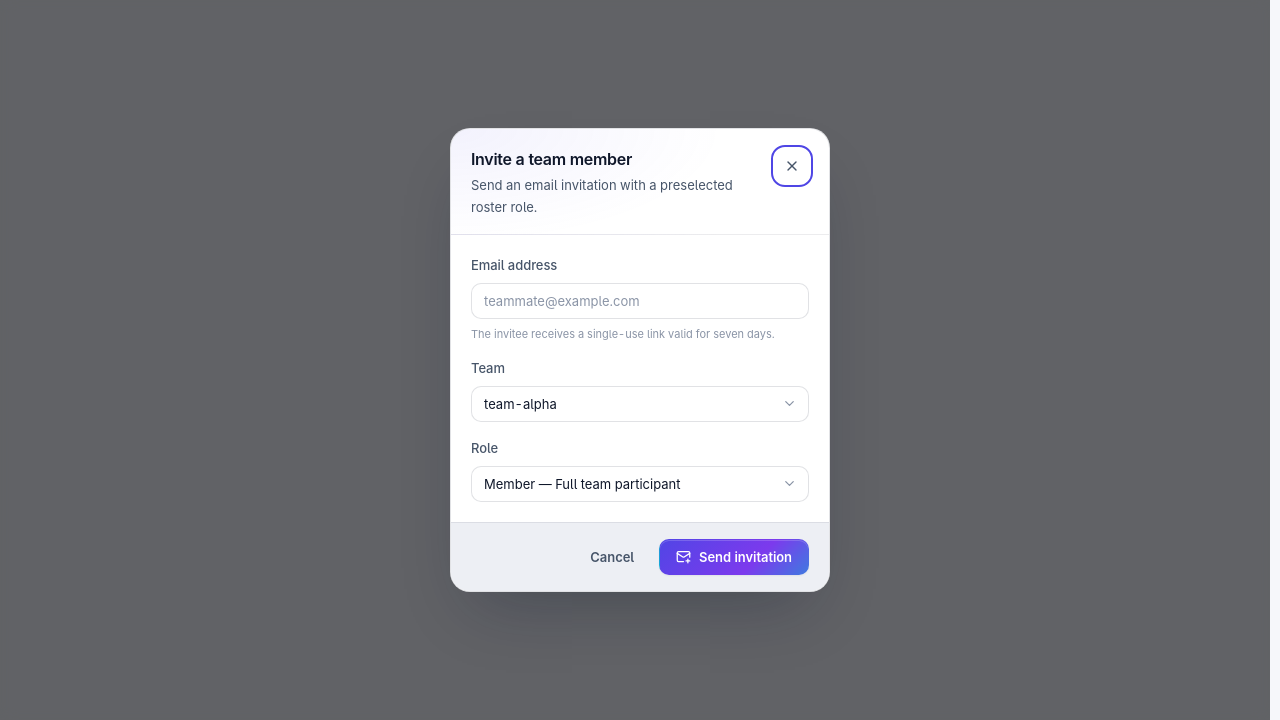
InviteDialog › rejects an invalid email without inviting
Type "not-an-email" into the field labelled "Email address" at (640,301), box [471,283,809,319]
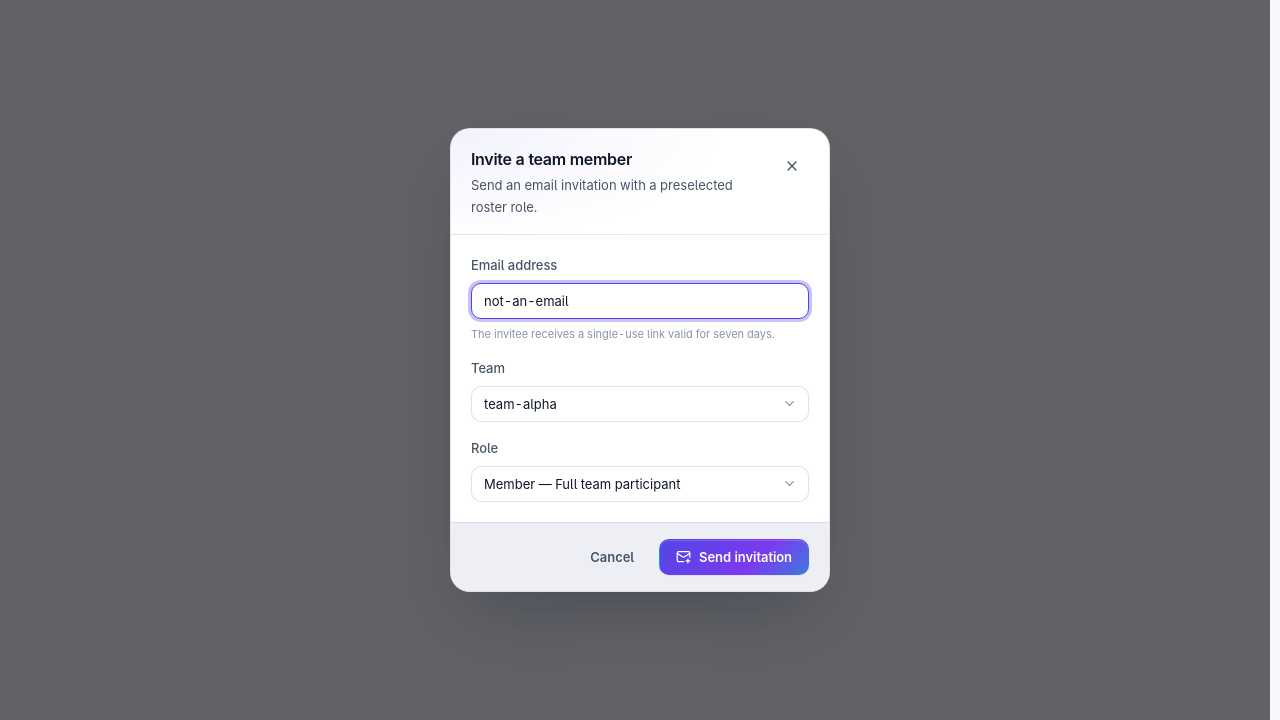
Click the button "Send invitation" at (734,557), box [659,539,809,575]
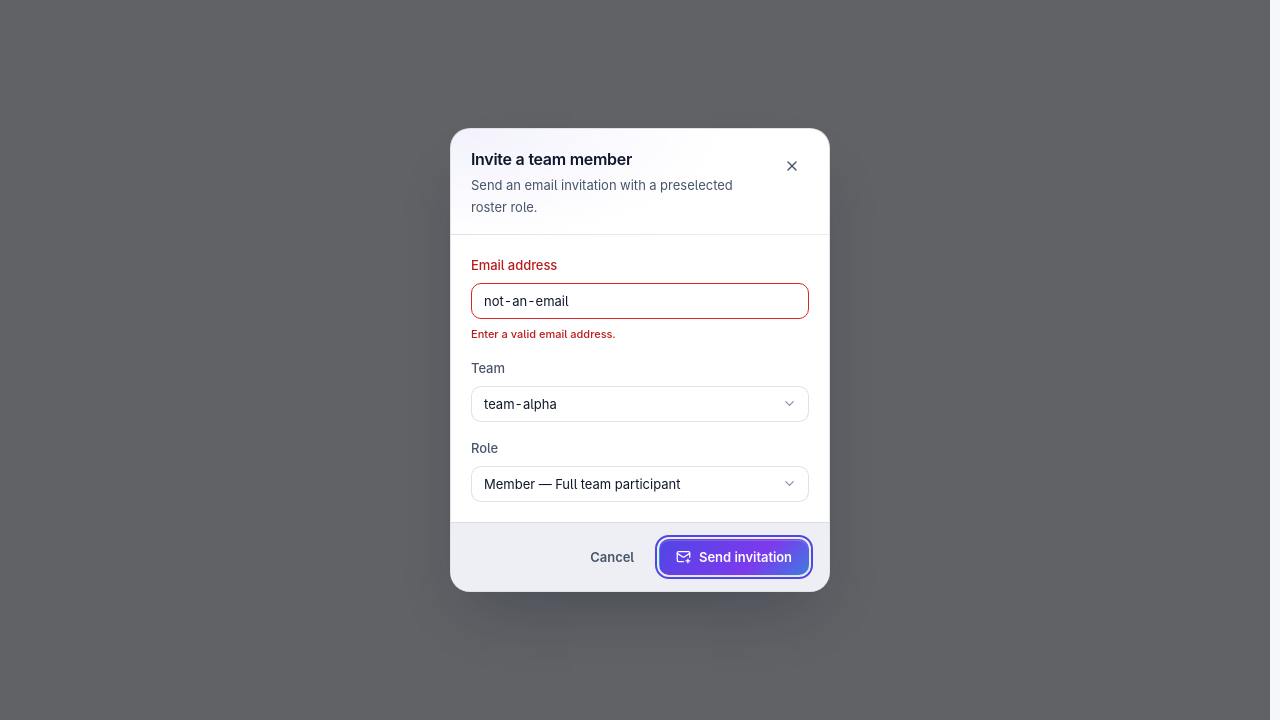
Expected: the message reads "Enter a valid email address.", [471,327,616,341]
